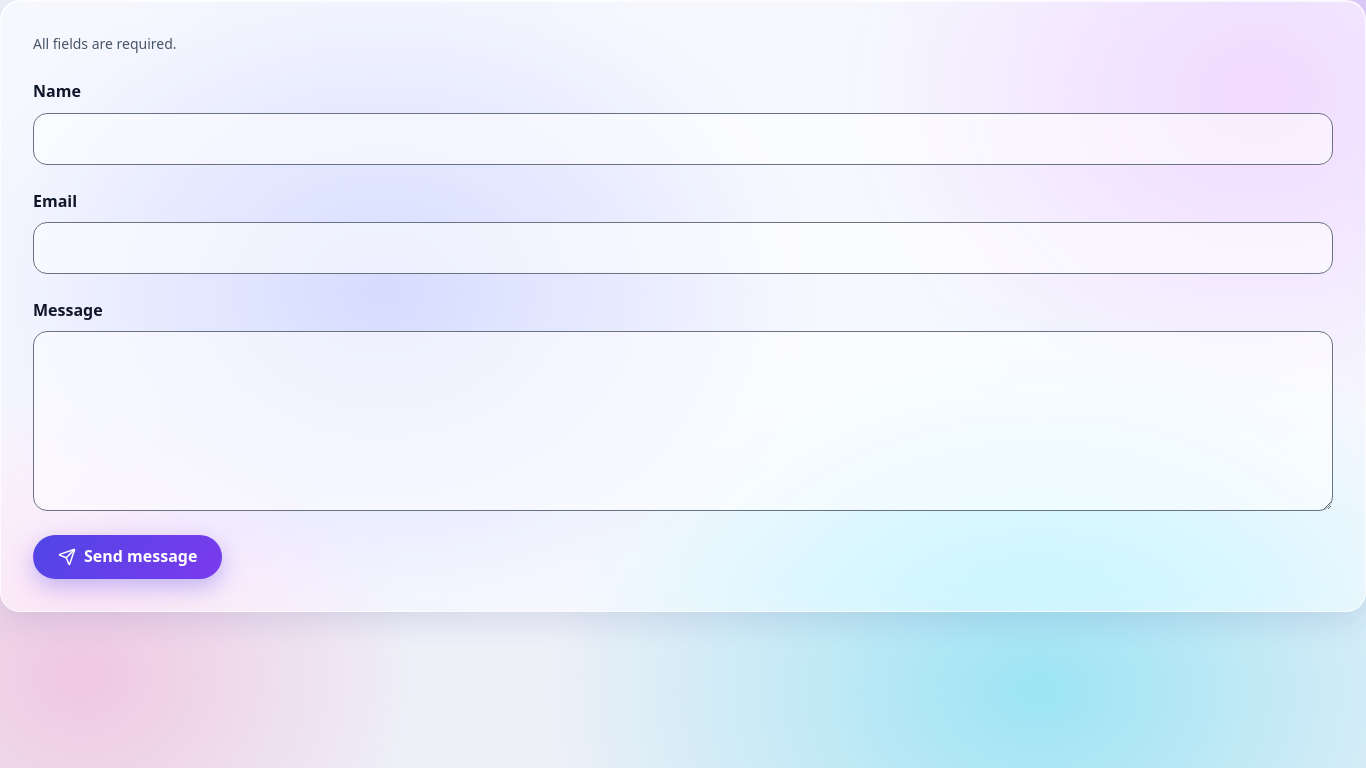
Test: ContactForm › sends trimmed values, shows the server confirmation, and clears the form
This screenshot has width=1366, height=768.
In the field labelled "Name": (683, 139) [33,113,1333,165], type "  Priya Sharma "
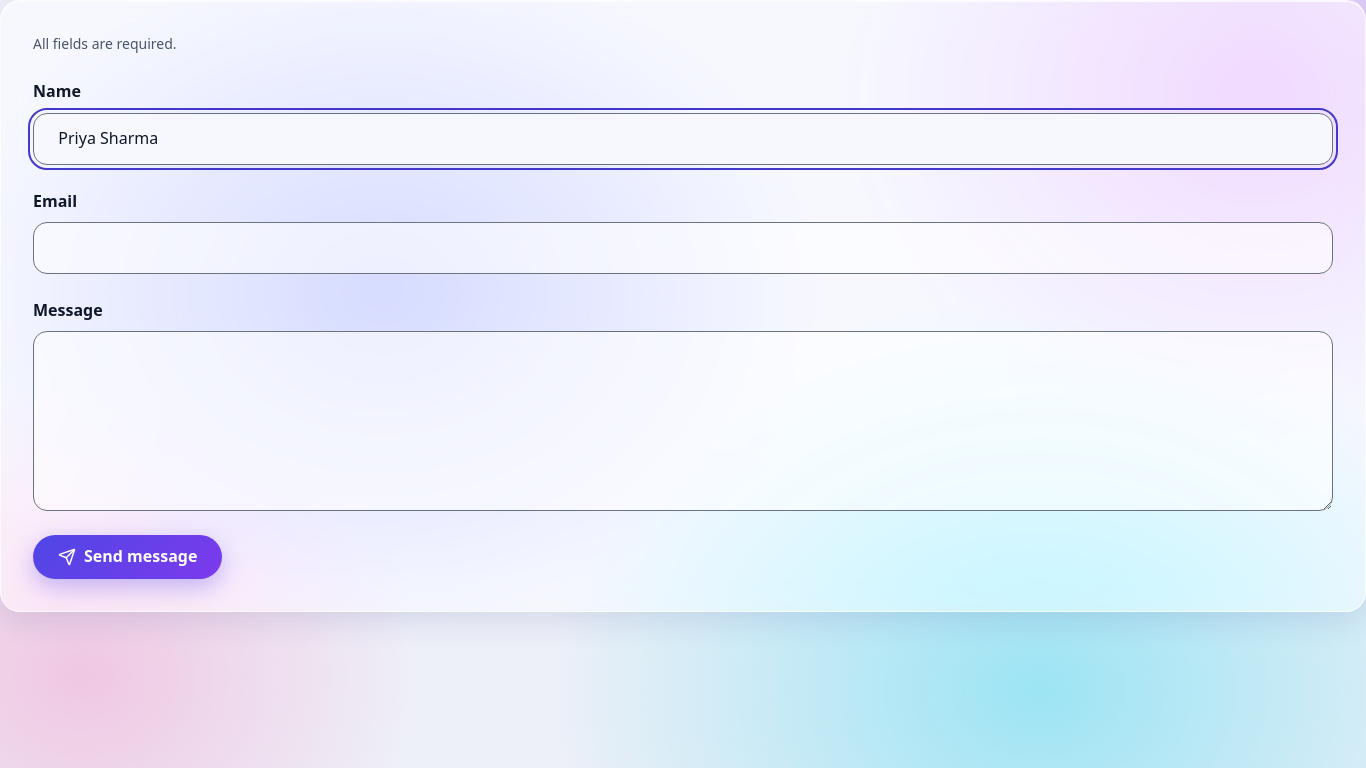
In the field labelled "Email": (683, 248) [33,222,1333,274], type "priya@example.com "
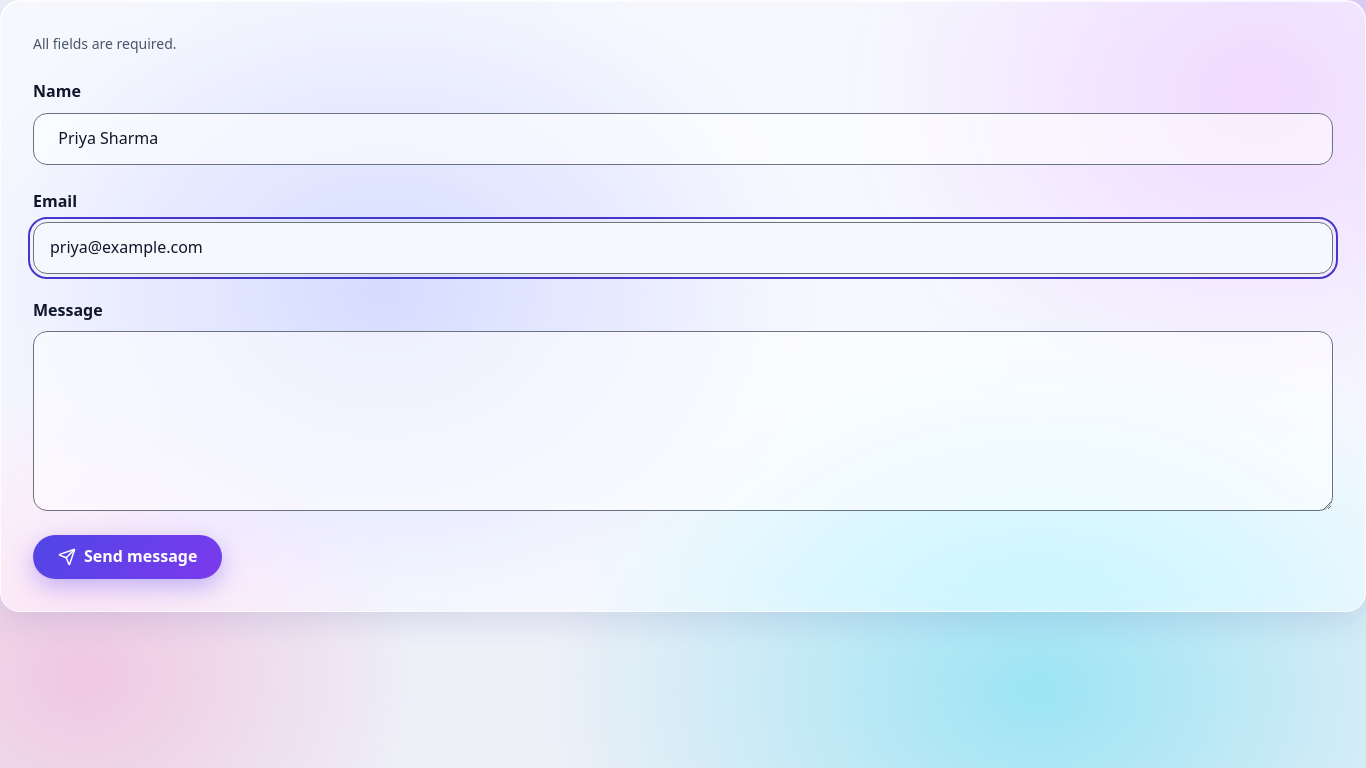
In the text box labelled "Message": (683, 421) [33,331,1333,511], type " Are you open to a freelance project? "
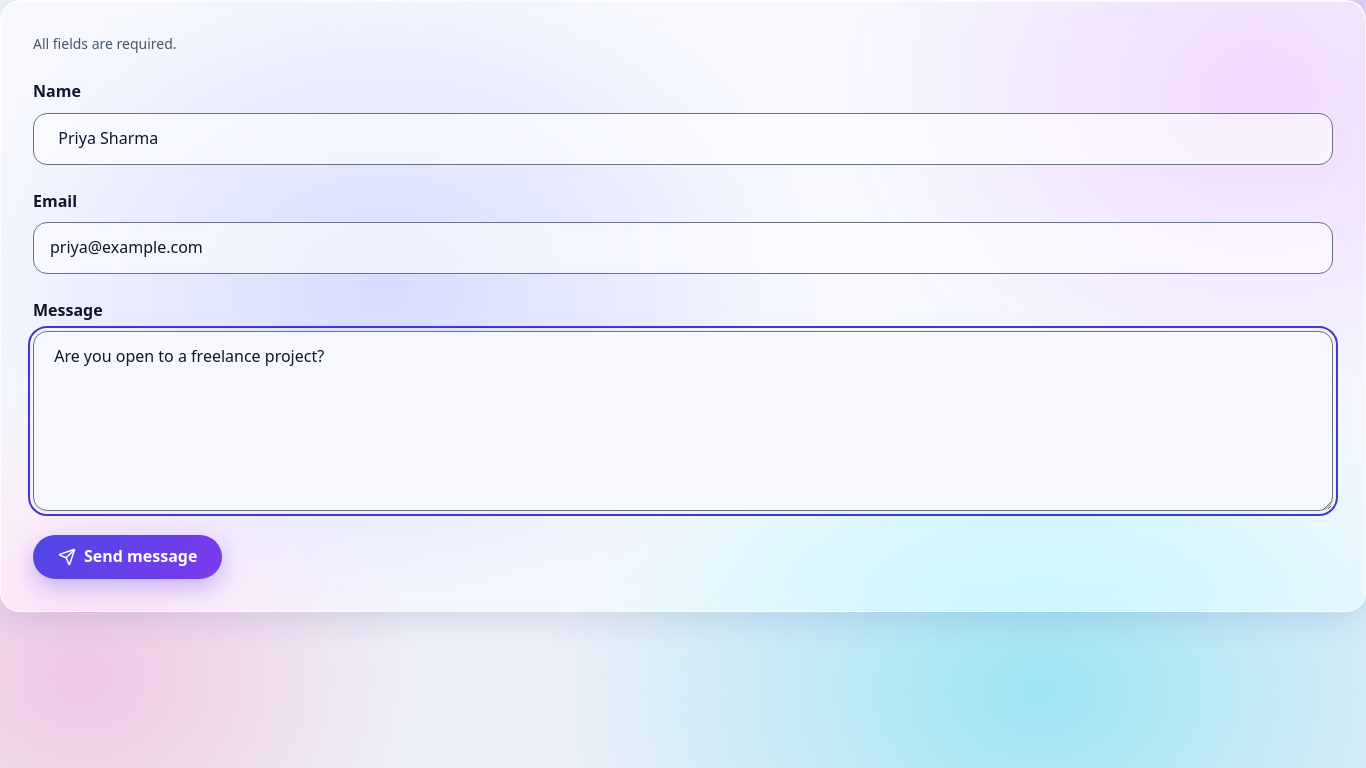
Click the button "Send message": (128, 557) [33,535,222,579]
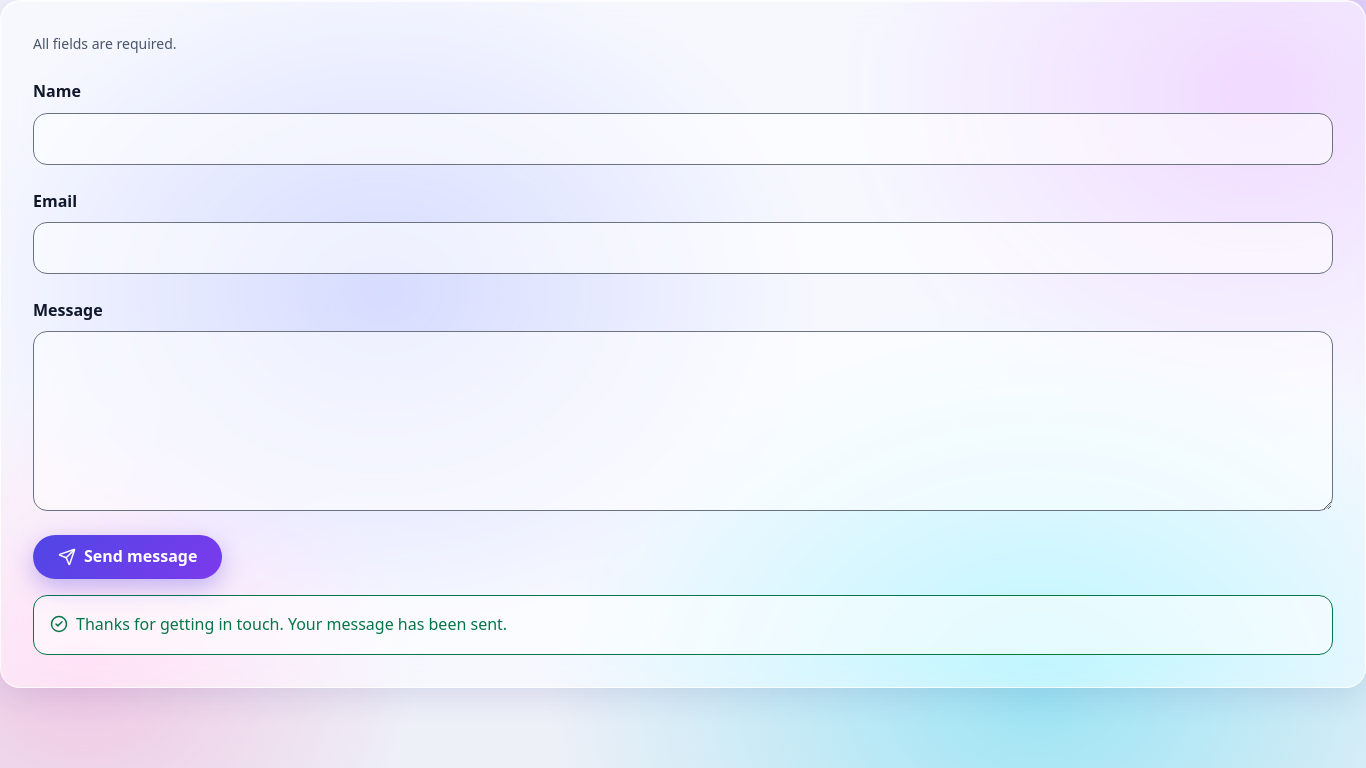
Now the text "Thanks for getting in touch. Your message has been sent." is shown, box [33,595,1333,654]
Now the field labelled "Name" is empty, box [33,113,1333,165]
Now the text box labelled "Message" is empty, box [33,331,1333,511]
